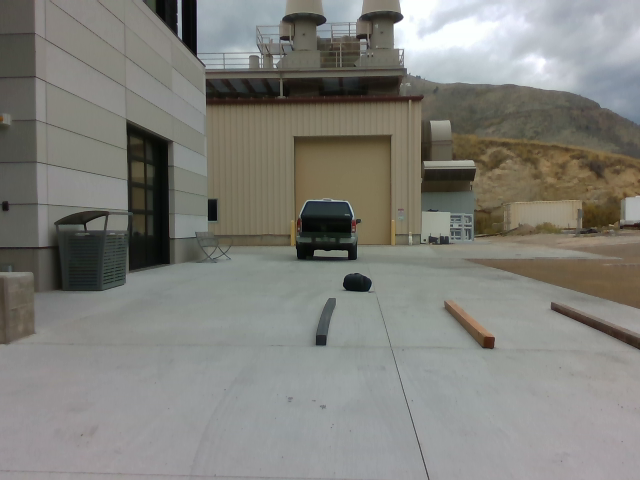dunnage: (304, 289, 640, 356)
